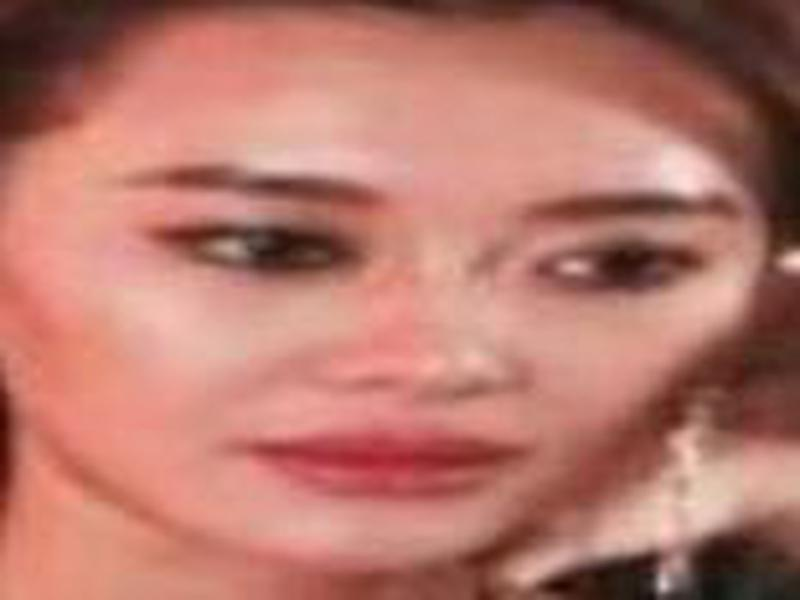without_mask: (44, 59, 757, 572)
